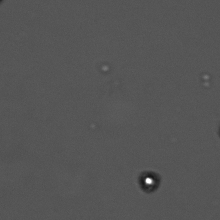Living Cell: (135, 168, 163, 193)
